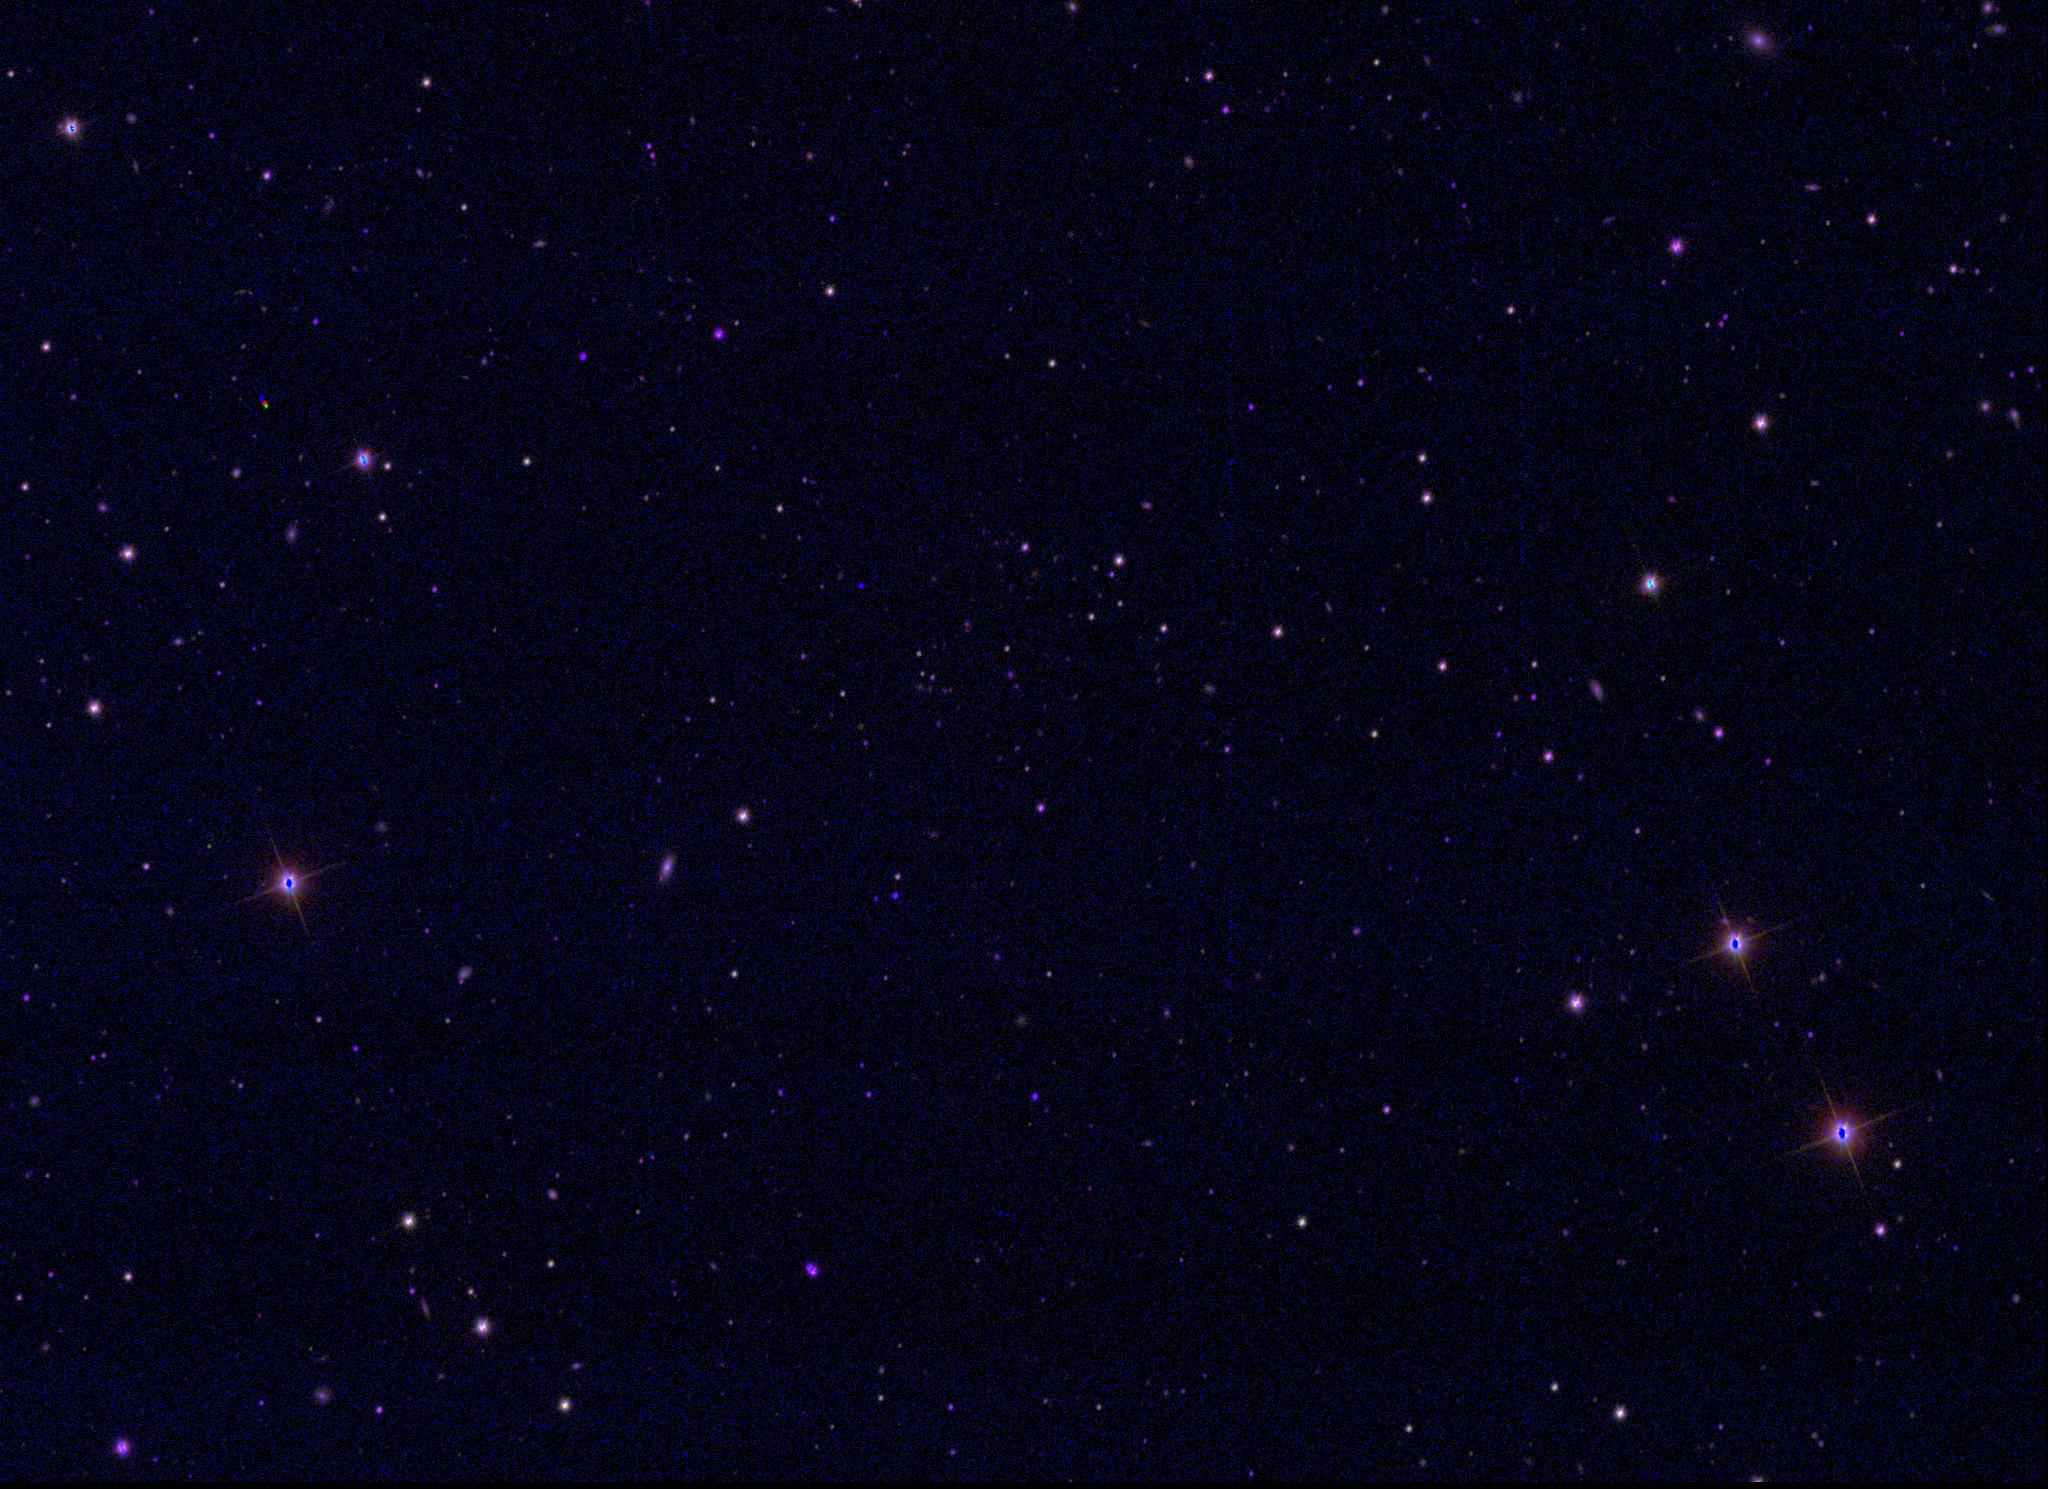L: (854, 579, 868, 593)
